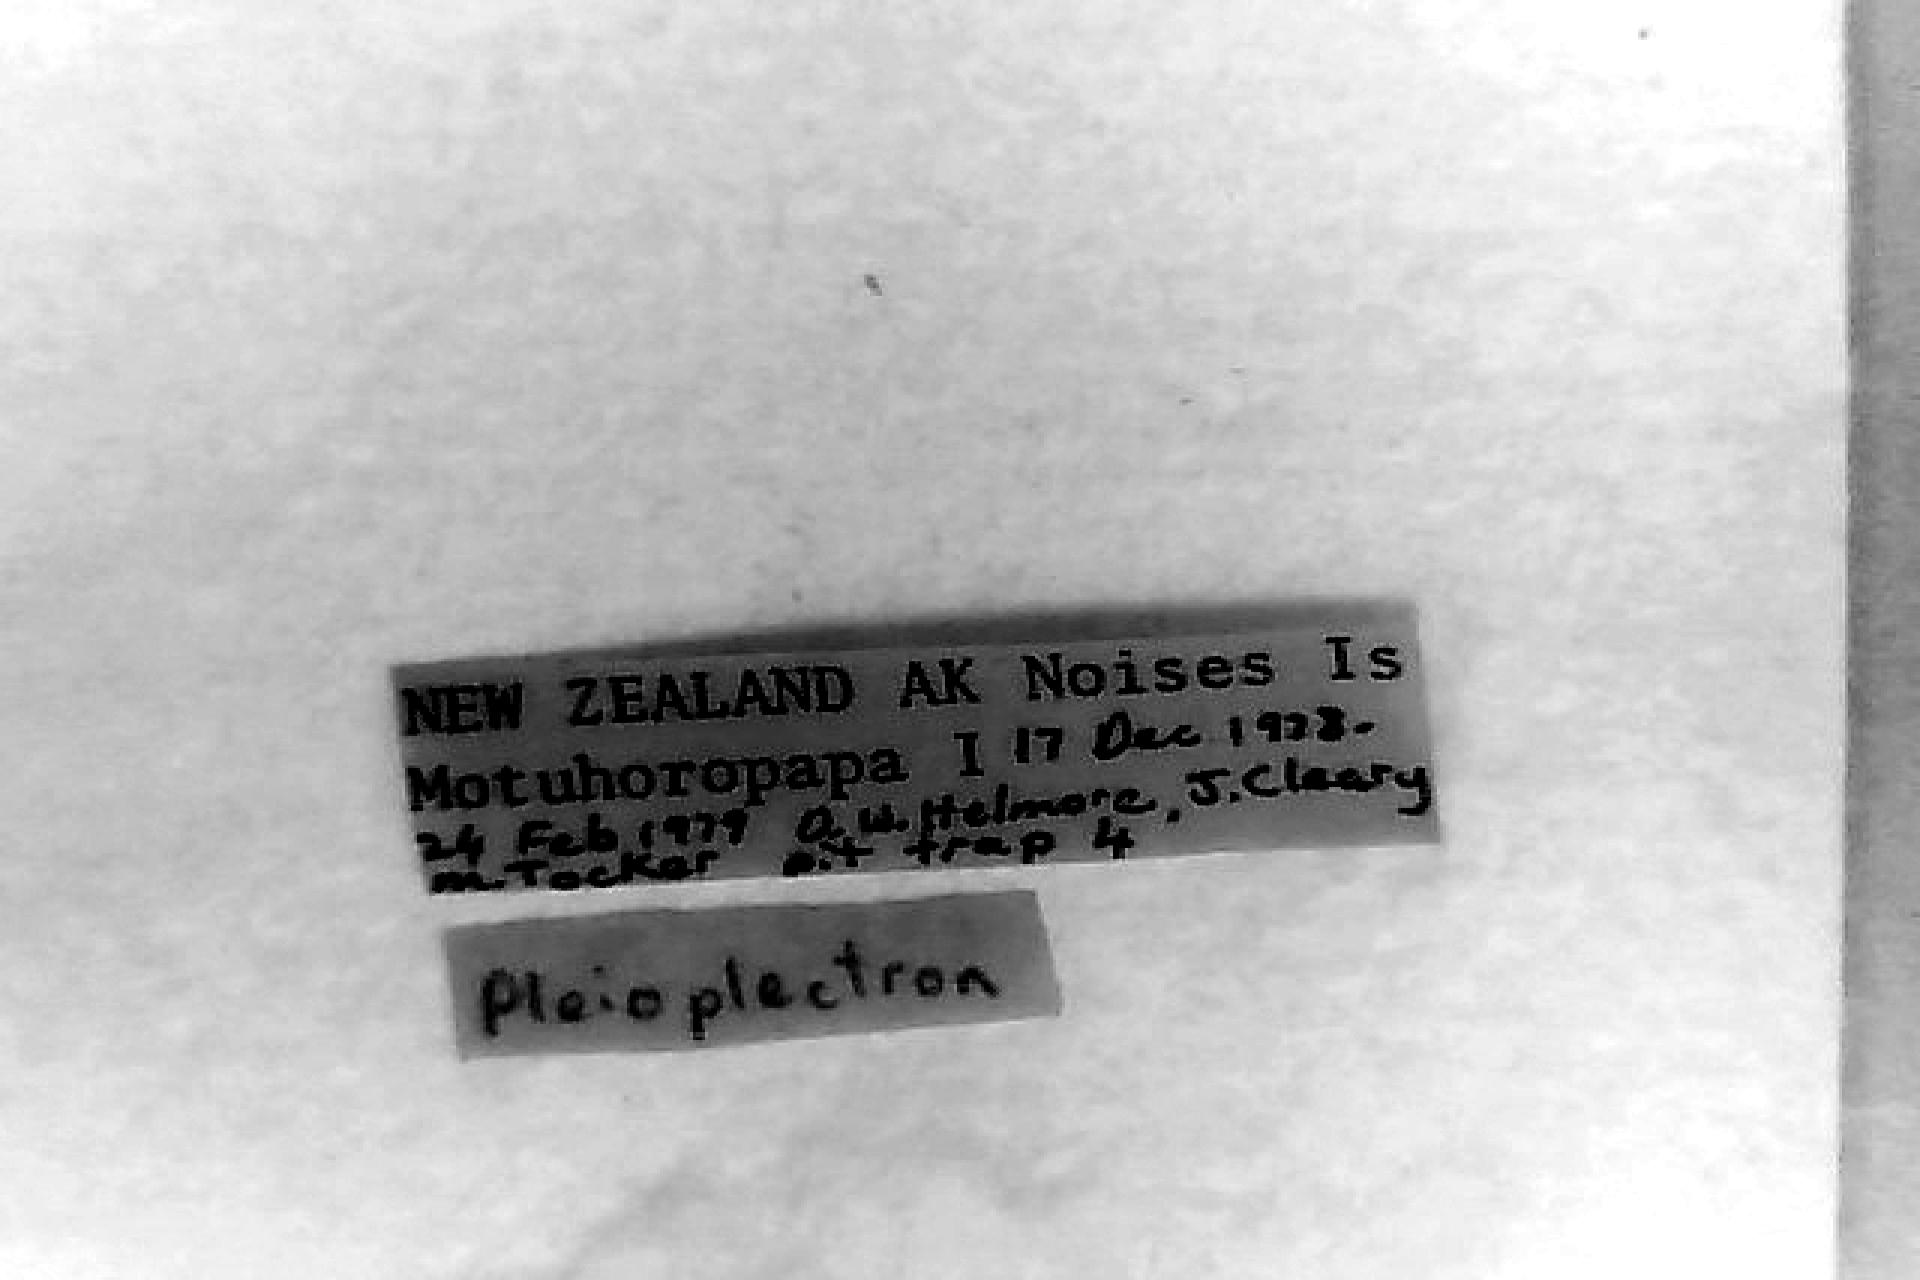hand_label: (446, 893, 1057, 1054)
mixed_label: (394, 617, 1440, 891)
